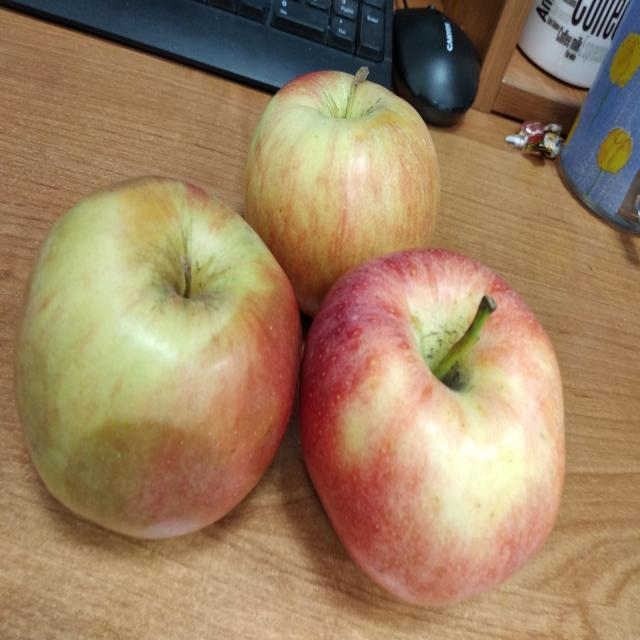Fresh Apple: (321, 271, 578, 640), (242, 62, 436, 298)
Rotten: (30, 174, 302, 554)
